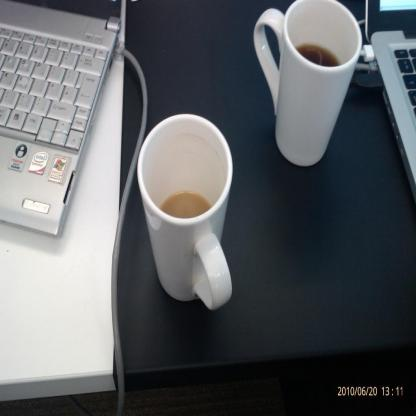board: (0, 0, 129, 247), (366, 0, 416, 201)
